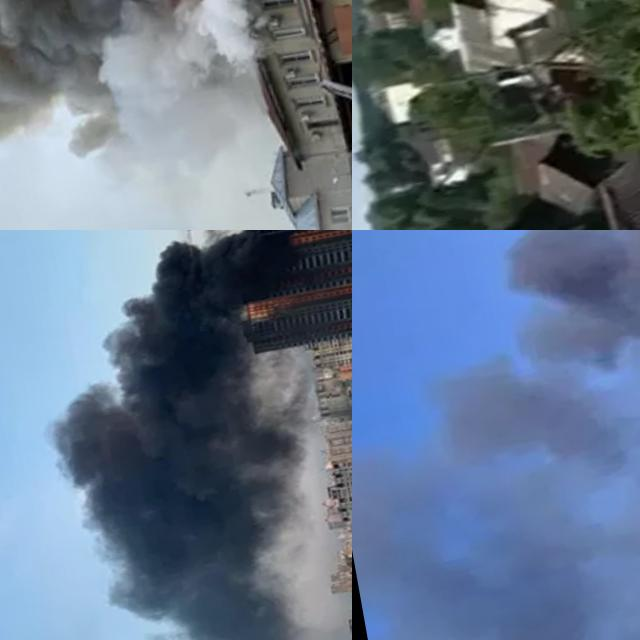smoke: (10, 230, 352, 640), (0, 0, 224, 210)
